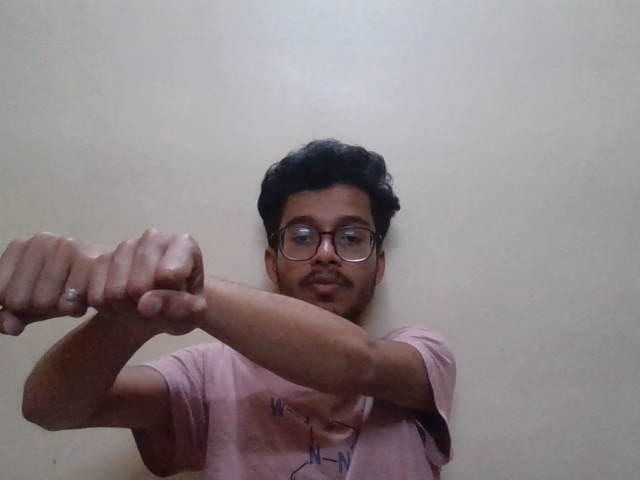work: (1, 198, 221, 379)
